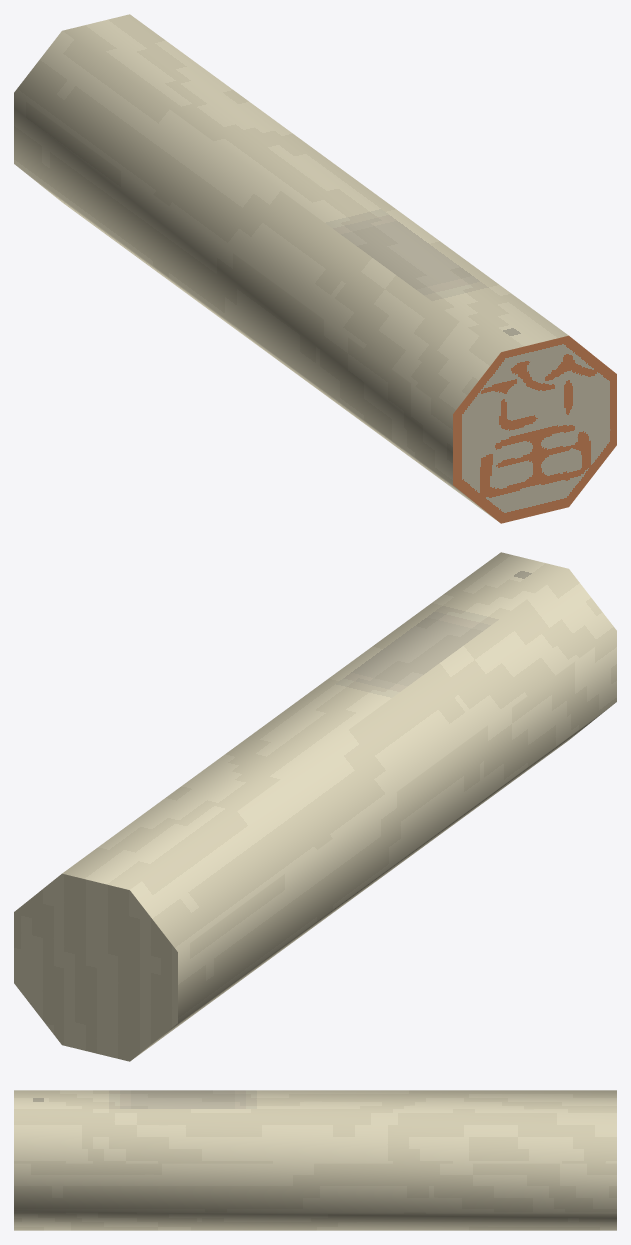
Rendered from 00b2_Hanko.glb.
The picture shows the model from 3 angles, top to bottom: view 1: azimuth 30°, elevation 25°; view 2: azimuth 150°, elevation 25°; view 3: azimuth 270°, elevation 25°; orthographic projection. The views are drawn at different scales.
Visible parts, largest first — view 1: part_0; view 2: part_0; view 3: part_0.
Part boxes in pixels (bbox=[...]): part_0: bbox=[14, 14, 616, 523]; part_0: bbox=[14, 552, 616, 1061]; part_0: bbox=[14, 1090, 616, 1230].
Size of the model in its own units: 0.0129 by 0.0129 by 0.06.
1 material, 1 textured.
